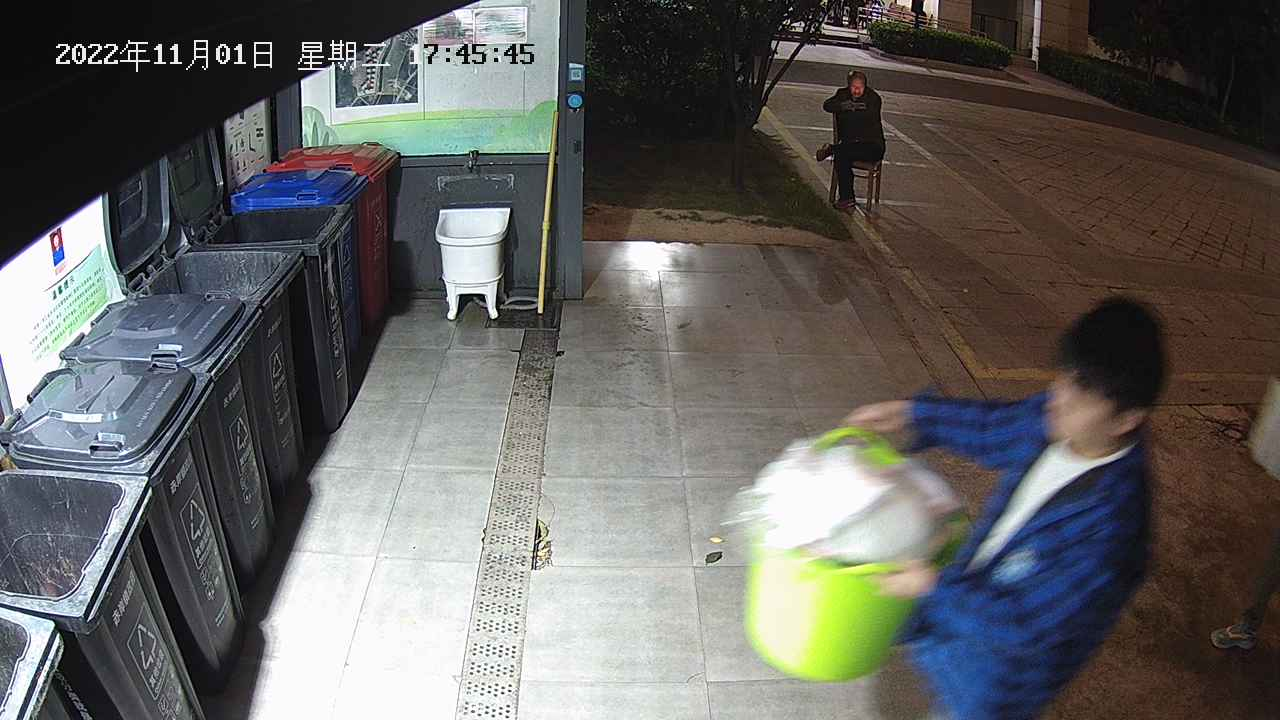person: (813, 68, 888, 214)
worker: (837, 296, 1171, 720)
youtong: (719, 424, 975, 685)
